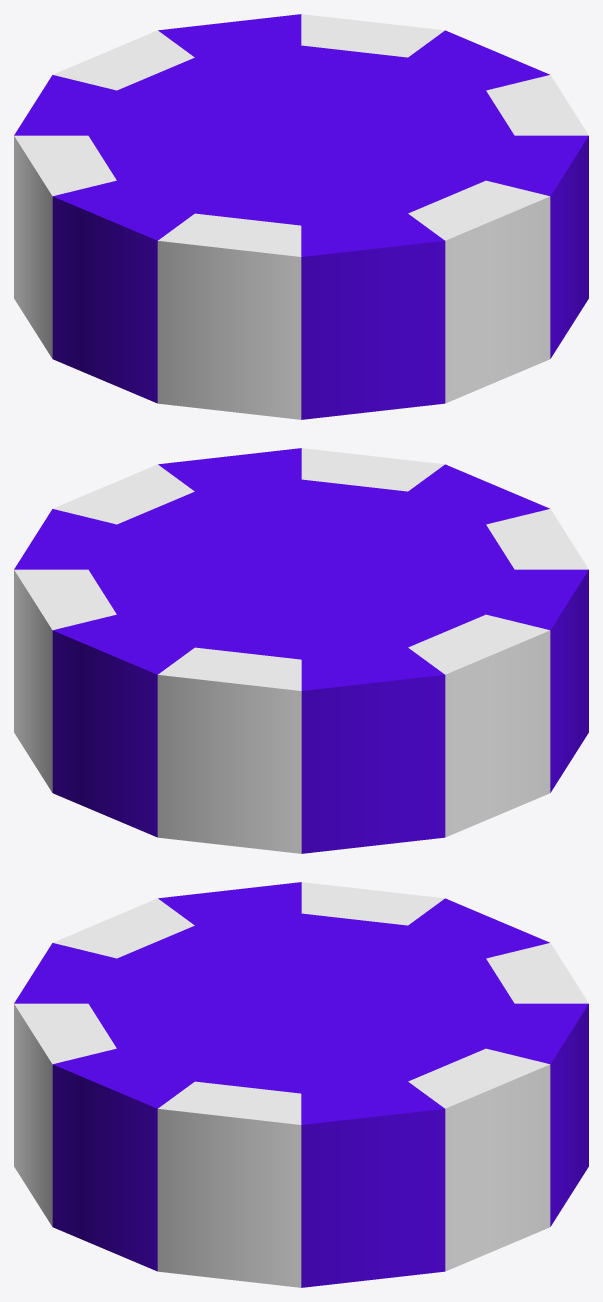
File: Poker Chip Purple.FBX
The picture shows the model from 3 angles, top to bottom: view 1: azimuth 30°, elevation 25°; view 2: azimuth 150°, elevation 25°; view 3: azimuth 270°, elevation 25°; orthographic projection.
Visible parts, largest first — view 1: Poker Chip Purple; view 2: Poker Chip Purple; view 3: Poker Chip Purple.
Boxes of the visible parts, x1,y1,x2,y2 form: Poker Chip Purple: (14, 14, 588, 419); Poker Chip Purple: (14, 448, 588, 853); Poker Chip Purple: (14, 882, 588, 1287).
Size of the model in its own units: 0.016 by 0.005 by 0.016.
